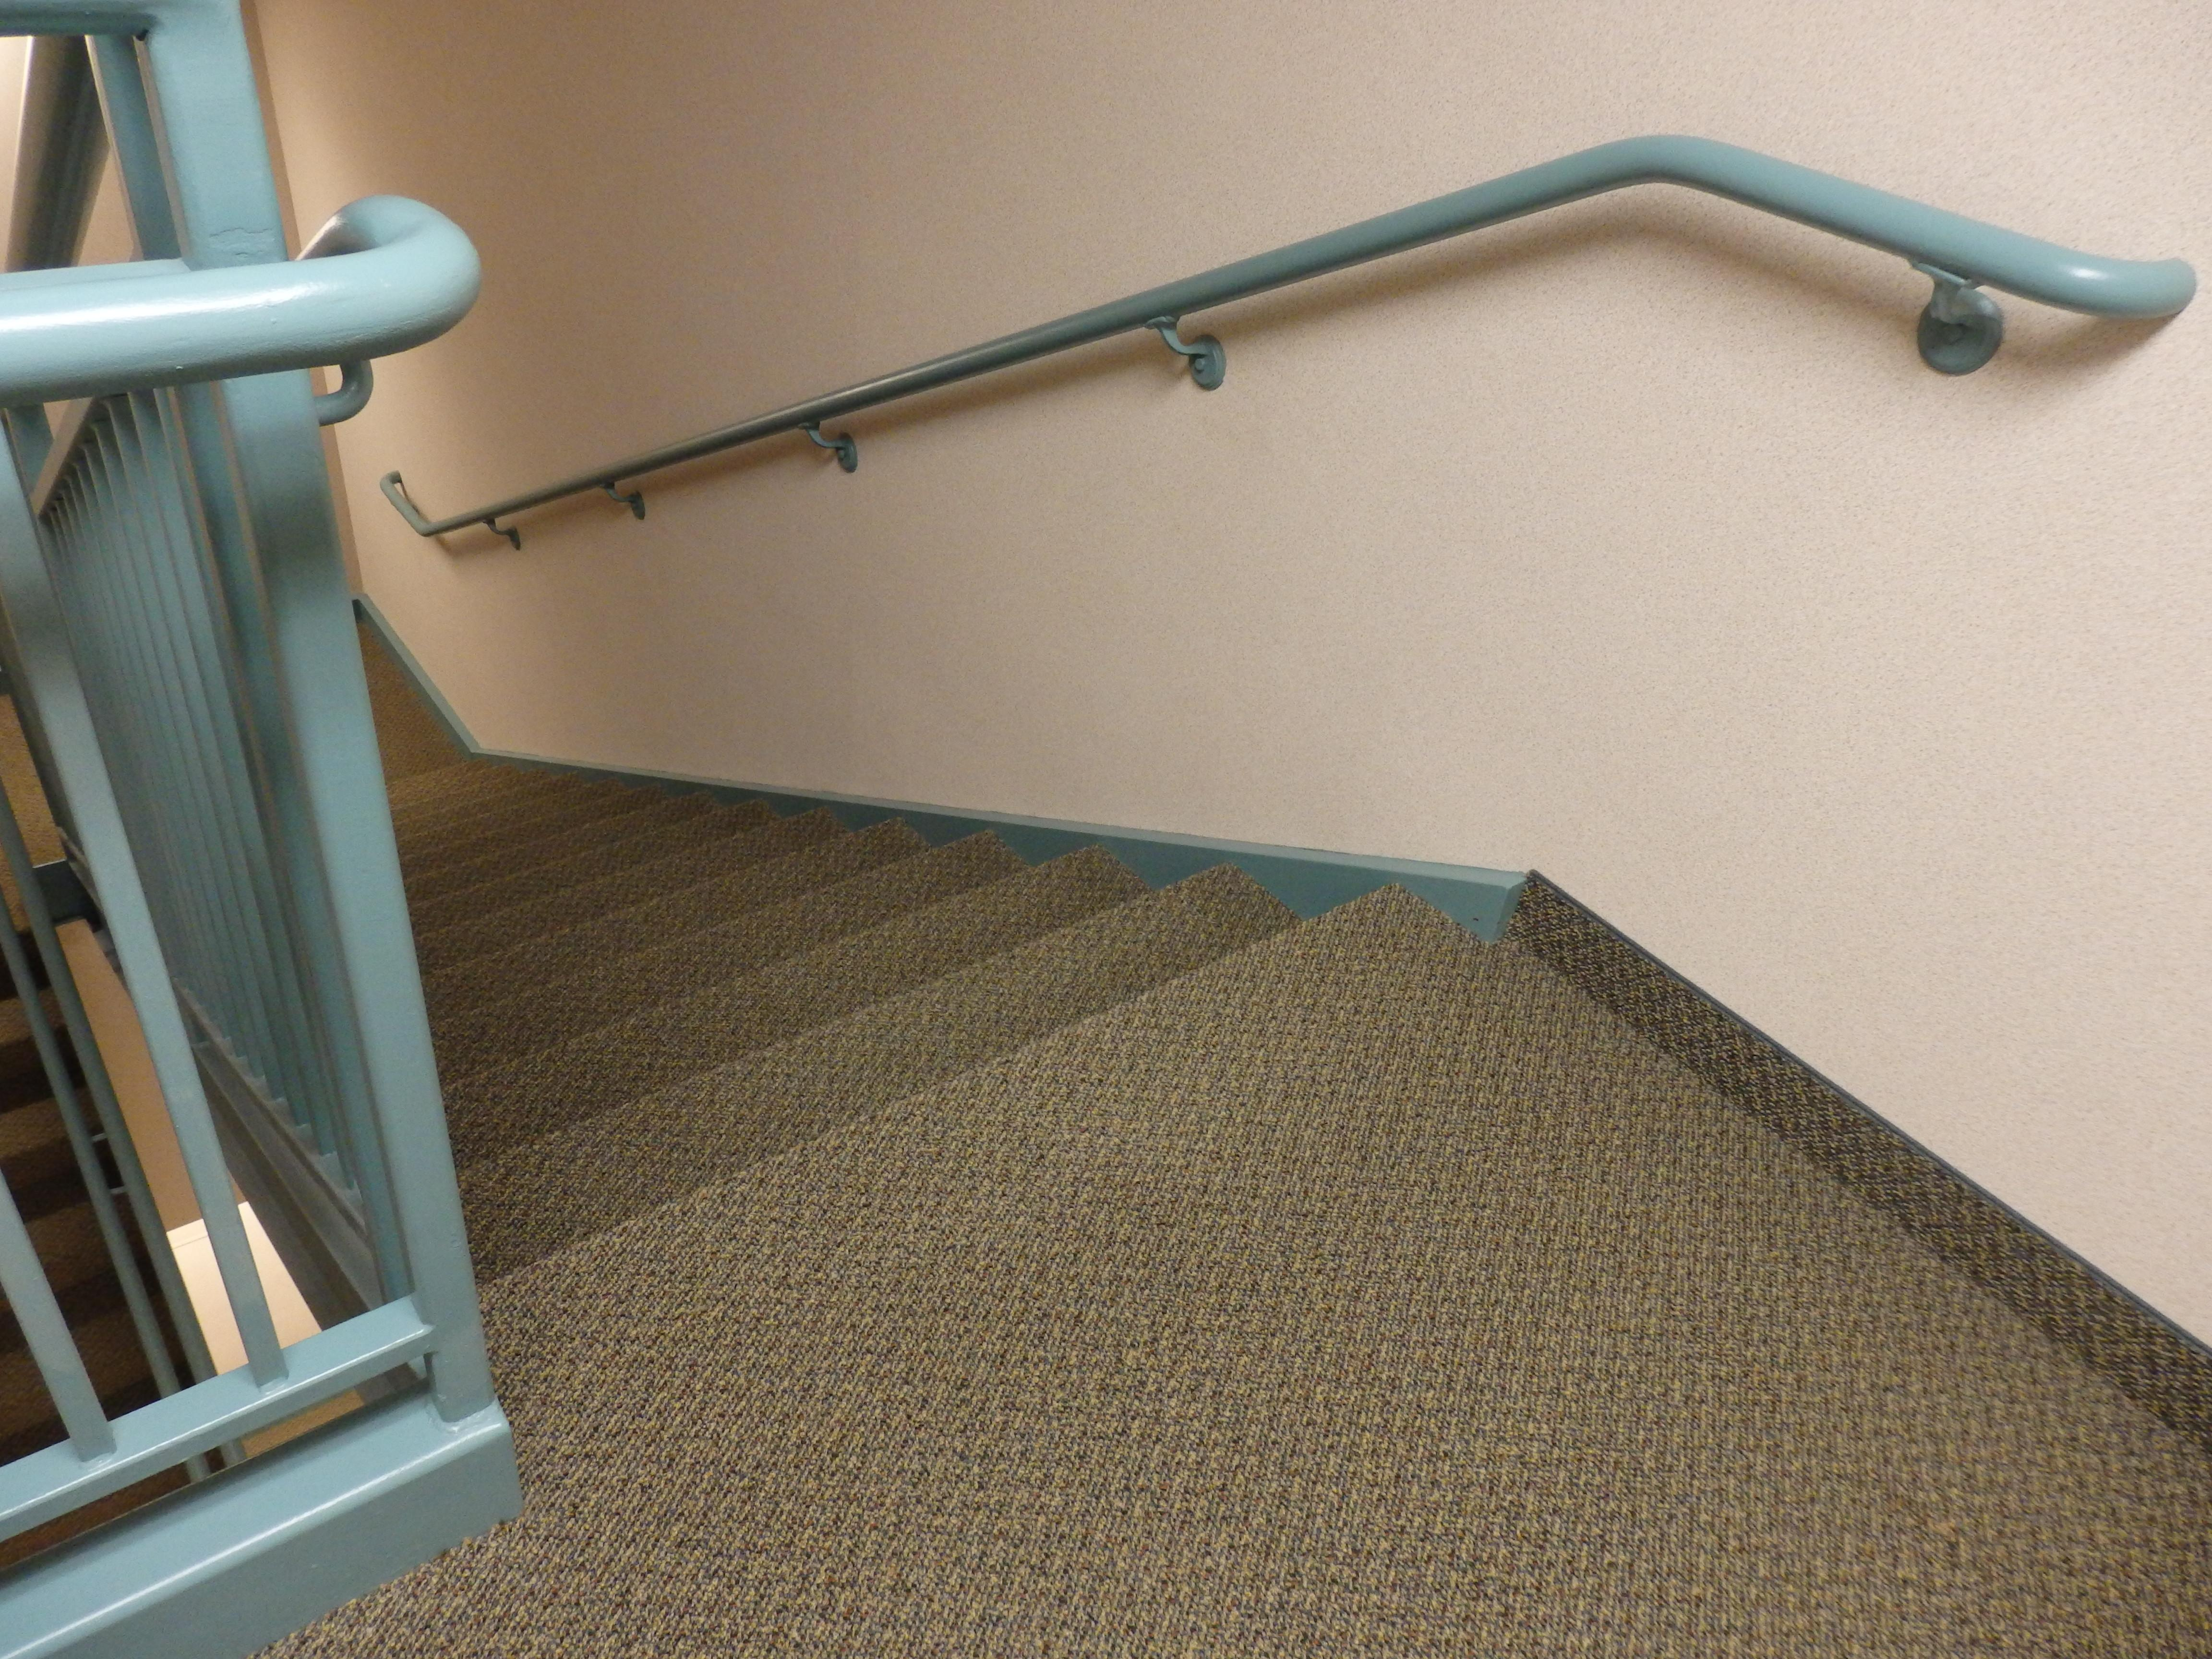stairs_down: (105, 781, 1453, 1251)
